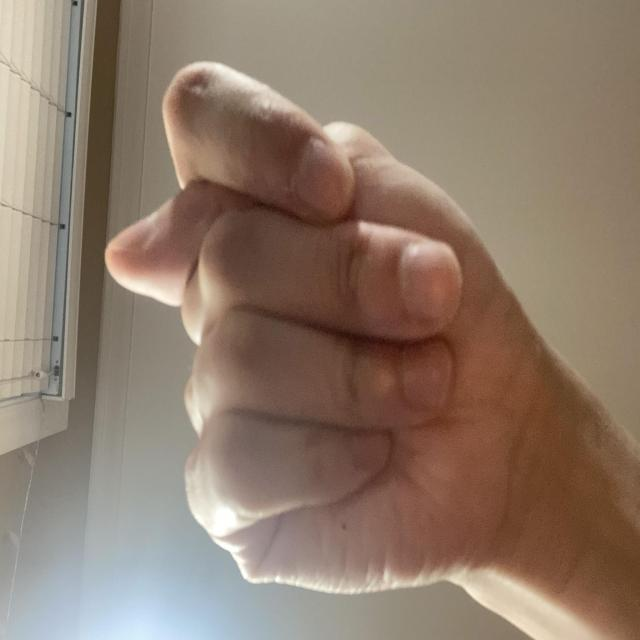T: (28, 127, 440, 640)
